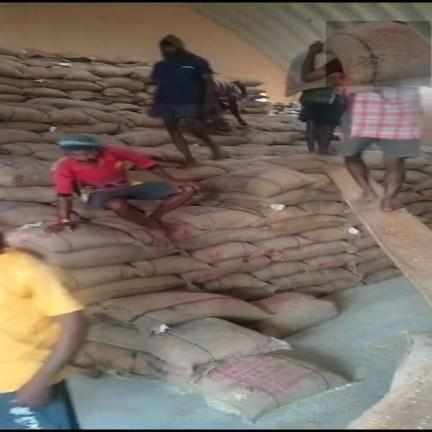Zone-Counting: (302, 22, 430, 210)
